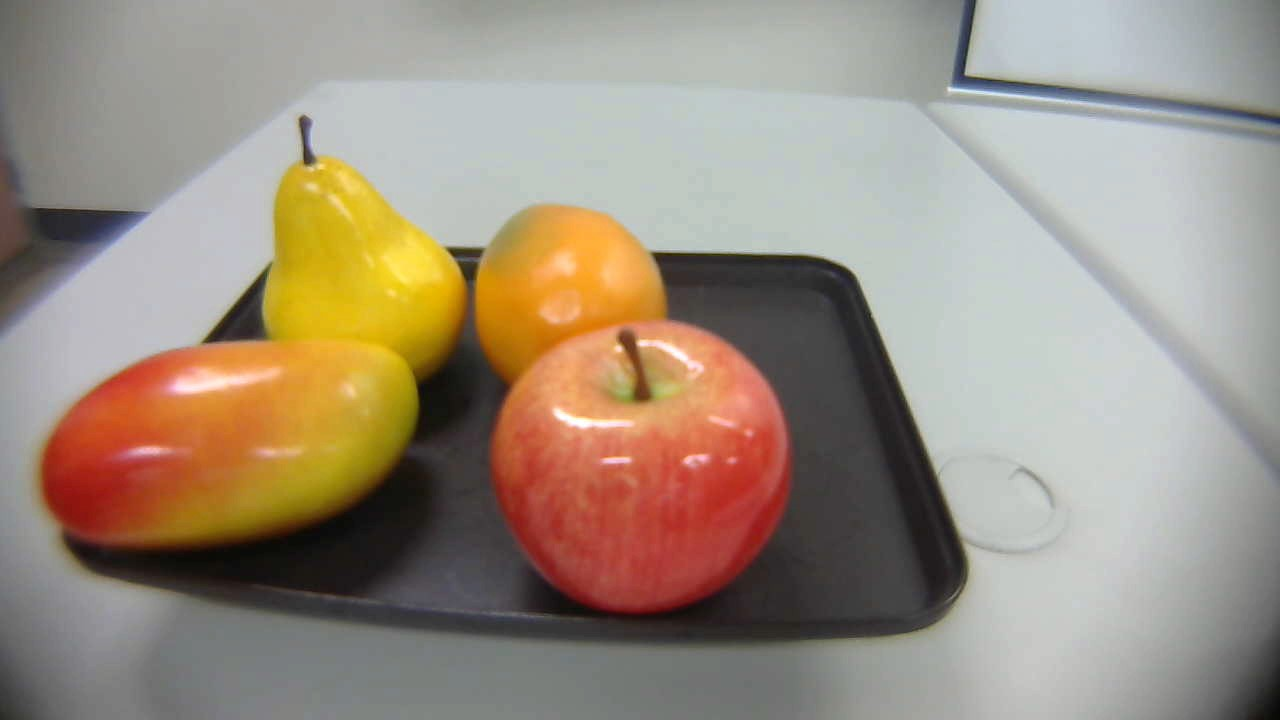papya: (472, 201, 675, 406)
red apple: (482, 318, 797, 621)
red mango: (23, 336, 437, 571)
yellow pear: (250, 114, 483, 381)
